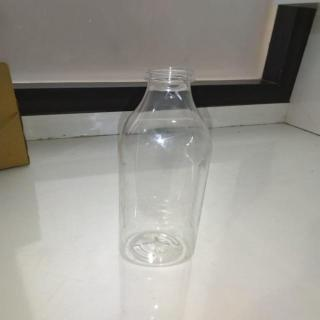Anorganik: (111, 65, 217, 272)
